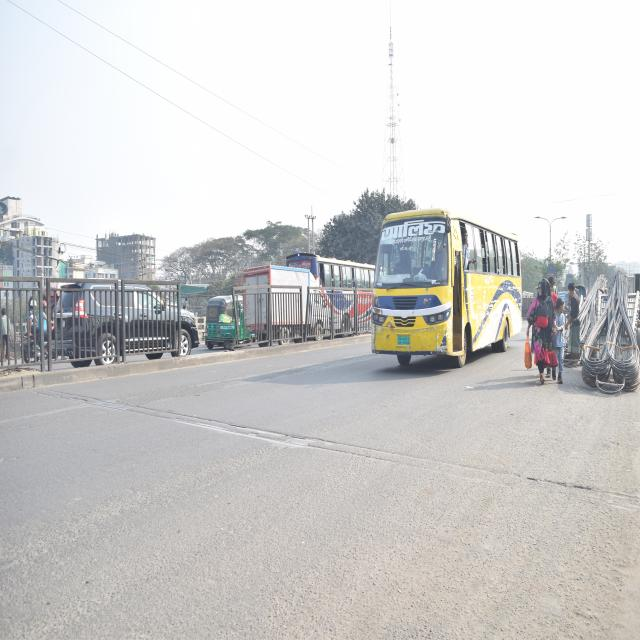bus: (367, 204, 523, 376)
car: (58, 272, 203, 374)
pickup-van: (238, 258, 326, 347)
